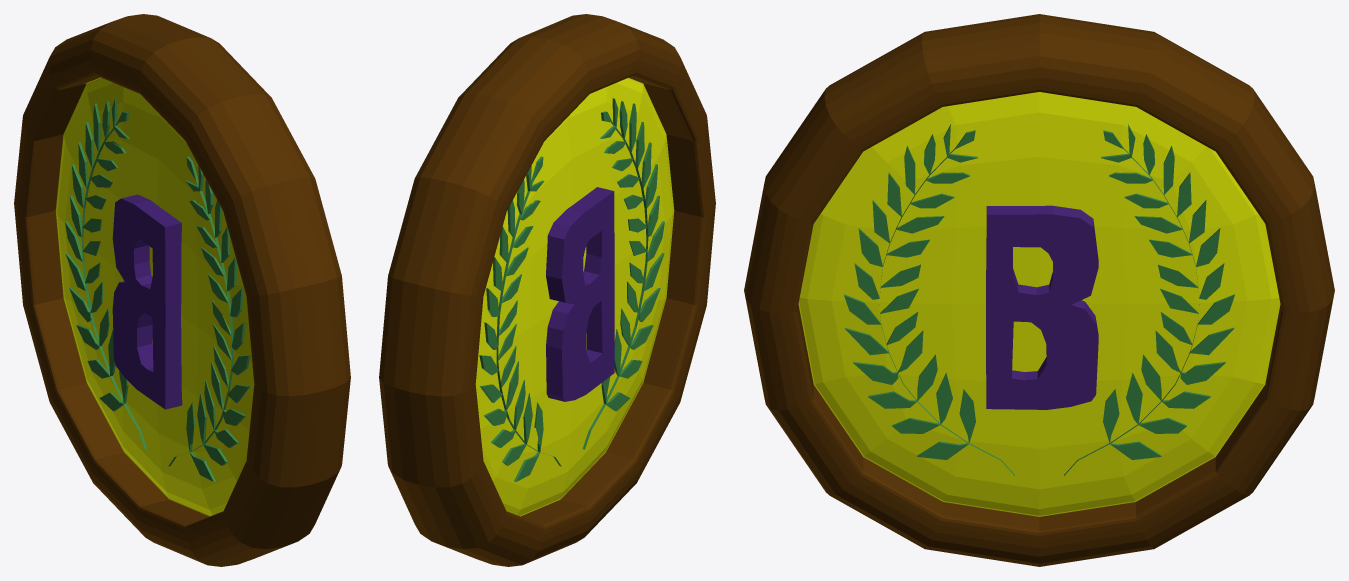
The model's file is Moeda.fbx.
3 renders of one model, left to right at view 1: azimuth 30°, elevation 25°; view 2: azimuth 150°, elevation 25°; view 3: azimuth 270°, elevation 25°, orthographic. The views are drawn at different scales.
Visible parts, largest first — view 1: Cube, Plane.001, Plane; view 2: Cube, Plane.001, Plane; view 3: Cube, Plane.001, Plane.
Boxes of the visible parts, x1,y1,x2,y2 form: Cube: [14, 14, 350, 566]; Plane.001: [65, 98, 250, 481]; Plane: [112, 194, 182, 409]; Cube: [379, 14, 715, 566]; Plane.001: [479, 98, 664, 481]; Plane: [546, 187, 614, 401]; Cube: [744, 14, 1334, 566]; Plane.001: [844, 124, 1234, 475]; Plane: [986, 205, 1098, 409].
Size of the model in its own units: 32.77 by 182 by 182.
